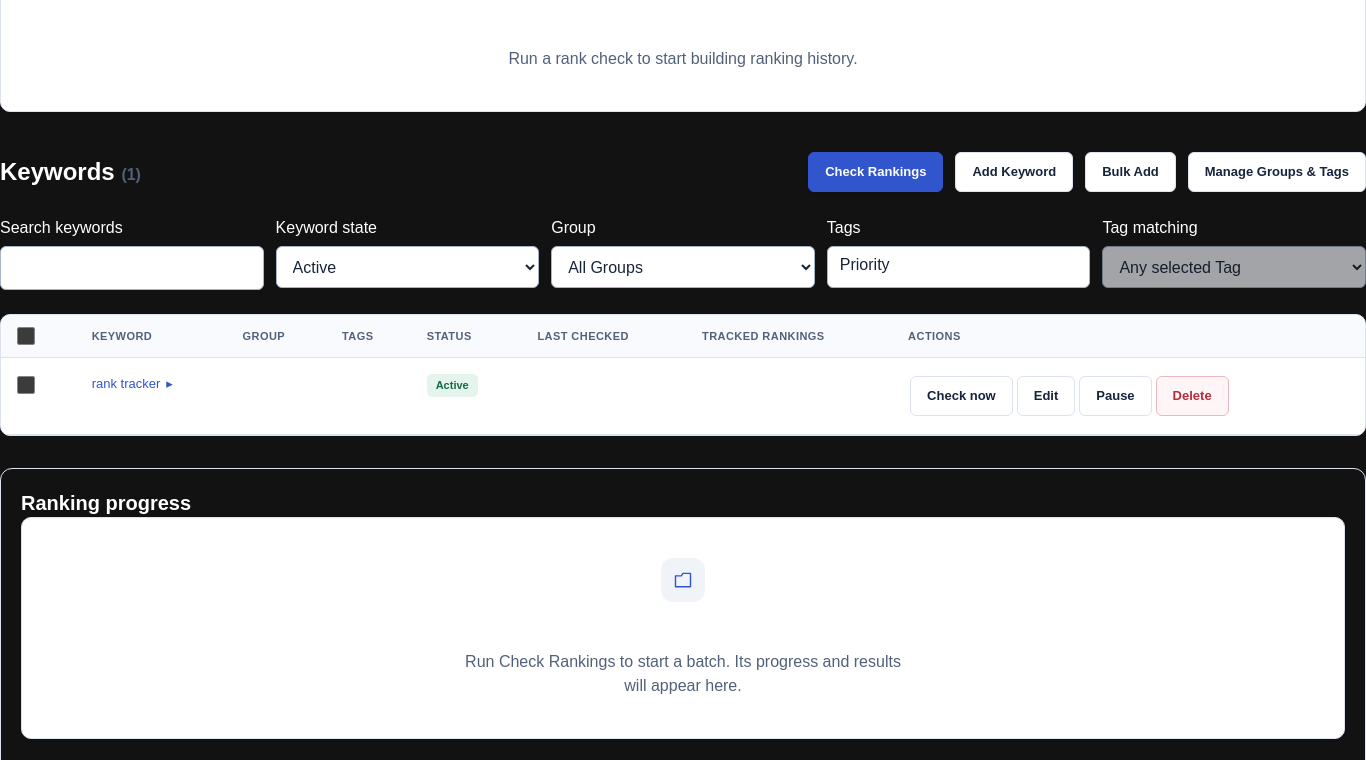
Test: manages organization and bulk assigns the current loaded rows
The image size is (1366, 760).
(page scrolled)
Expected: the text "rank tracker" is shown, [92, 375, 160, 394]
Click the checkbox named "Select rank tracker".
click(26, 385)  # box [17, 376, 35, 394]
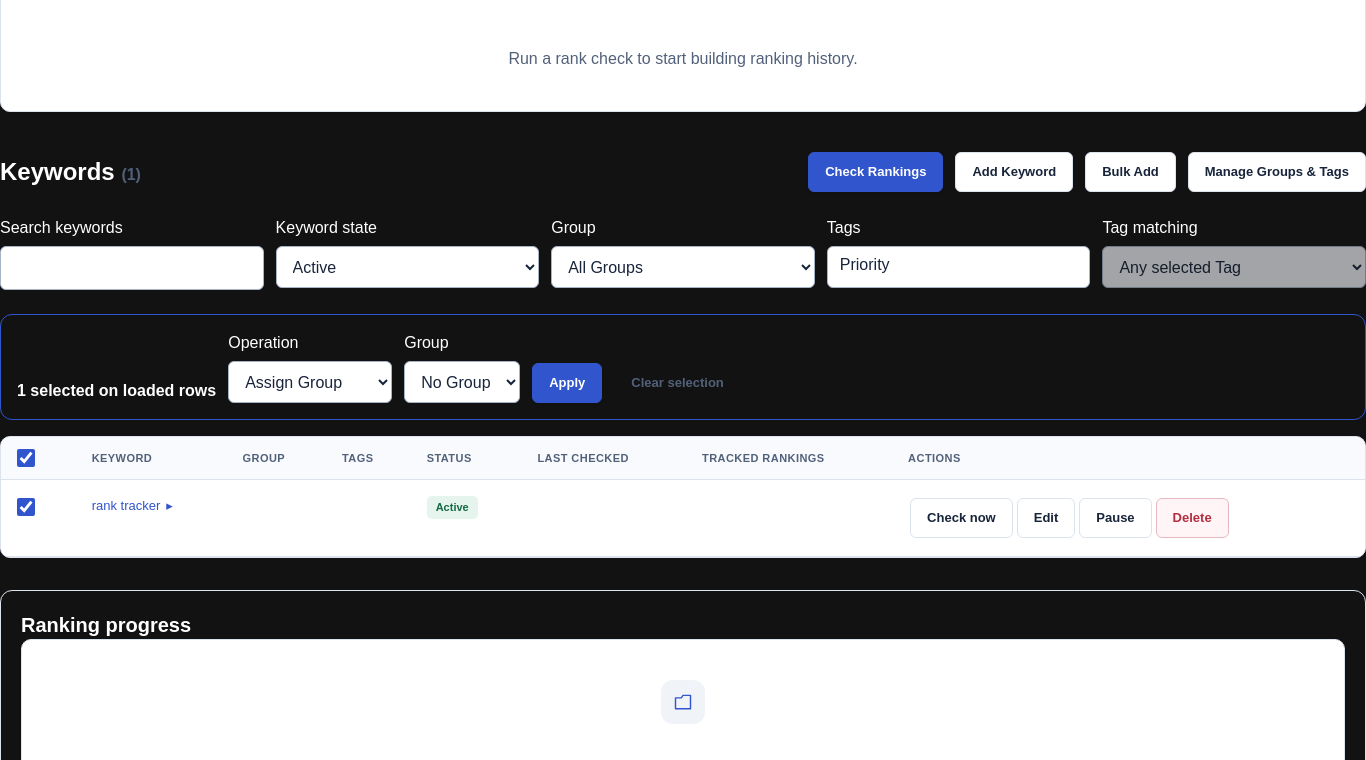
Expected: the text "1 selected on loaded rows" is shown, [17, 379, 216, 403]
Select "Brand" in the dropdown labelled "Group" in the row of "selected on loaded rows" at {"x": 462, "y": 382}, box [404, 361, 520, 403]
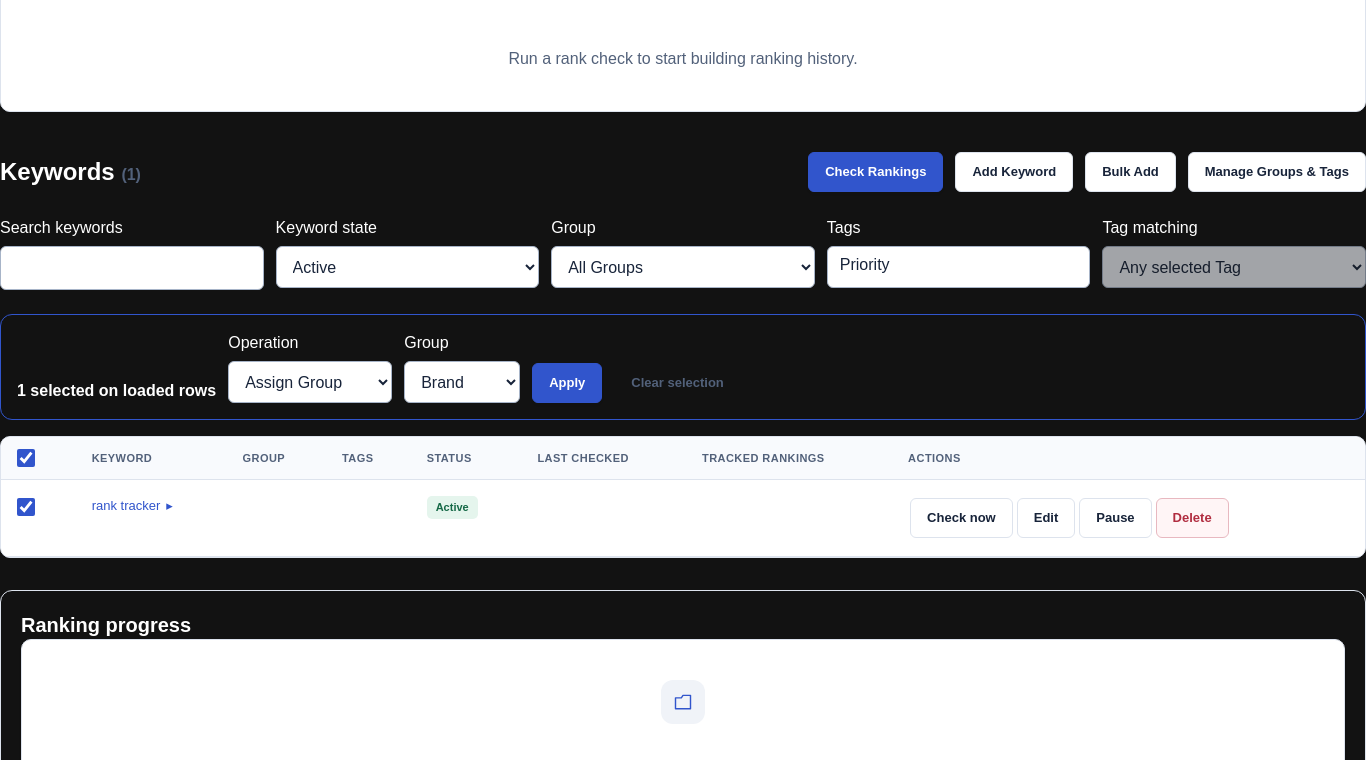
Click the button "Apply".
click(567, 383)  # box [532, 363, 602, 403]
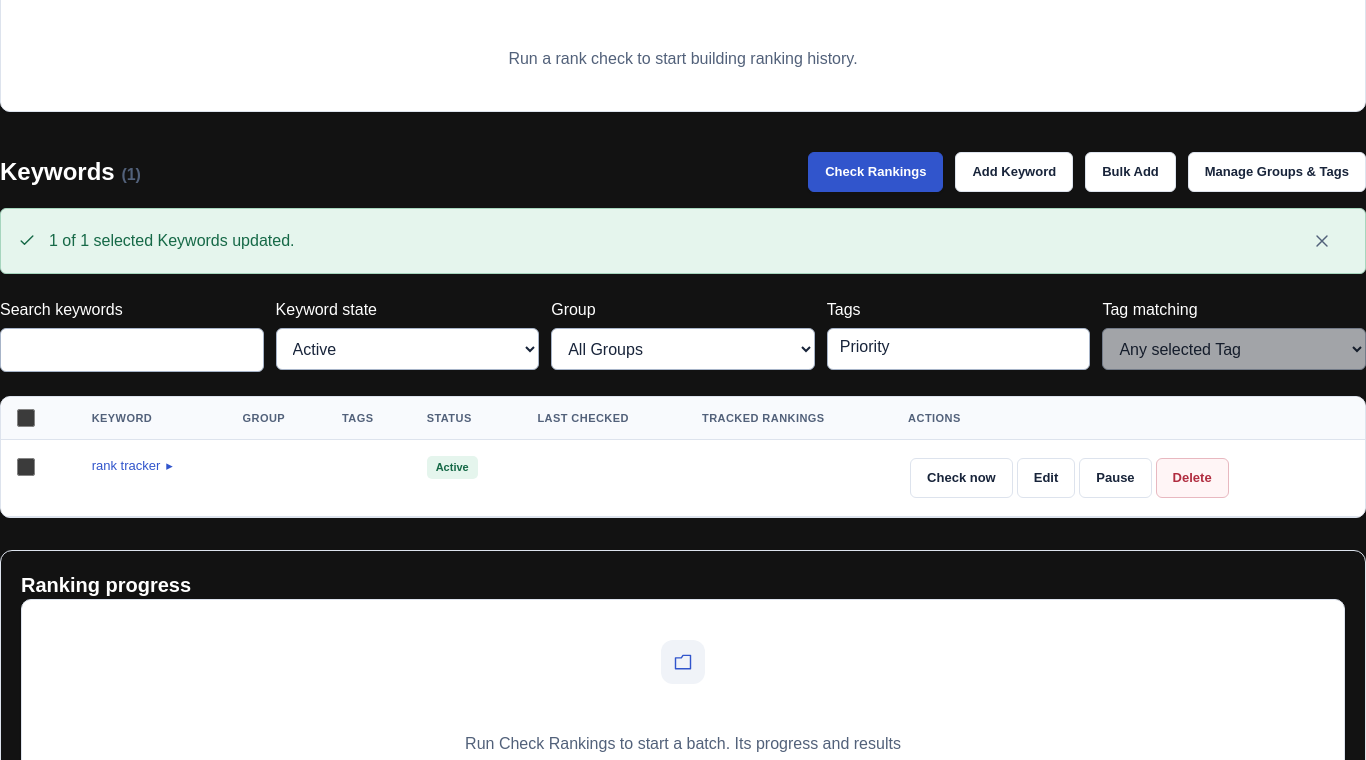
Click the button "Manage Groups & Tags".
click(1277, 172)  # box [1188, 152, 1365, 192]
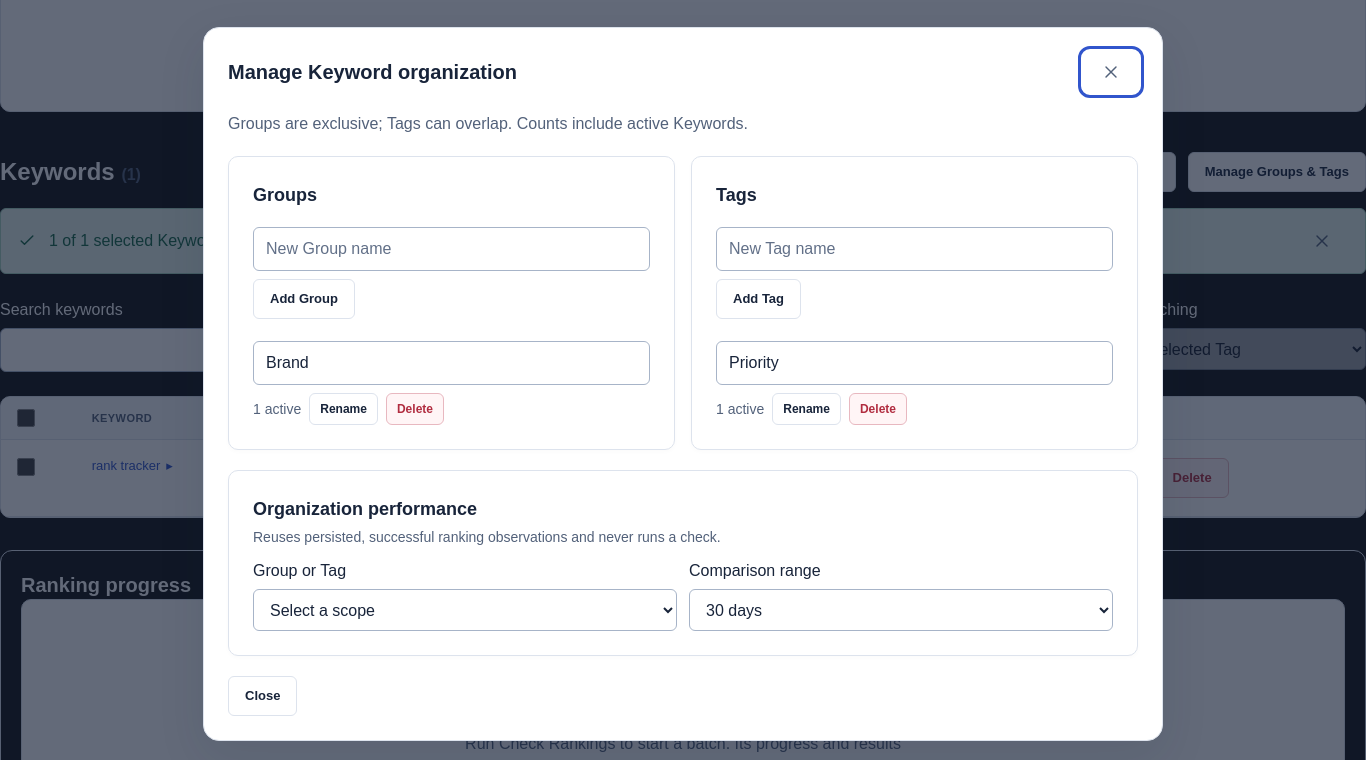
Expected: the heading "Manage Keyword organization" is shown, [228, 57, 517, 87]
Expected: the field showing "Brand" is shown, [253, 341, 650, 385]
Expected: the field showing "Priority" is shown, [716, 341, 1113, 385]
